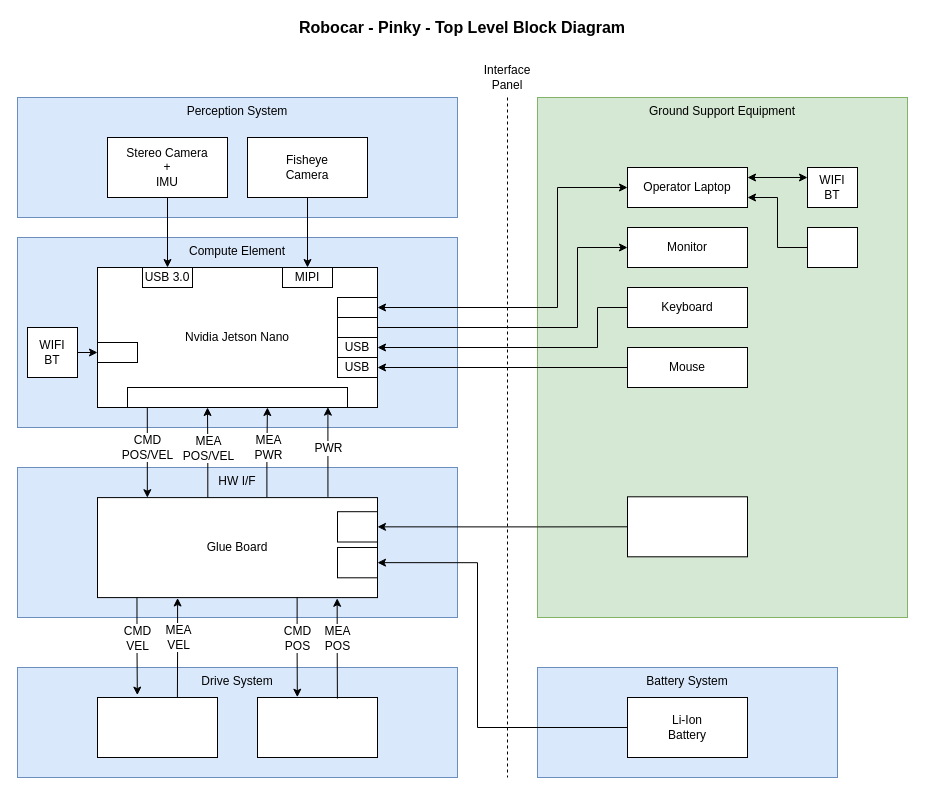
The diagram is 925 pixels wide and 796 high, and some of its shapes have lost their labels. The centre of each missing label's shape, as x and y in pixels:
40-Pin Header: [237,397]
BAT IN: [357,562]
Drive Motor: [157,727]
E-Stop: [832,247]
ETH: [357,307]
GSE IN: [357,526]
HDMI: [357,327]
M.2: [117,352]
Power Supply: [687,526]
Steering Servo: [317,727]
